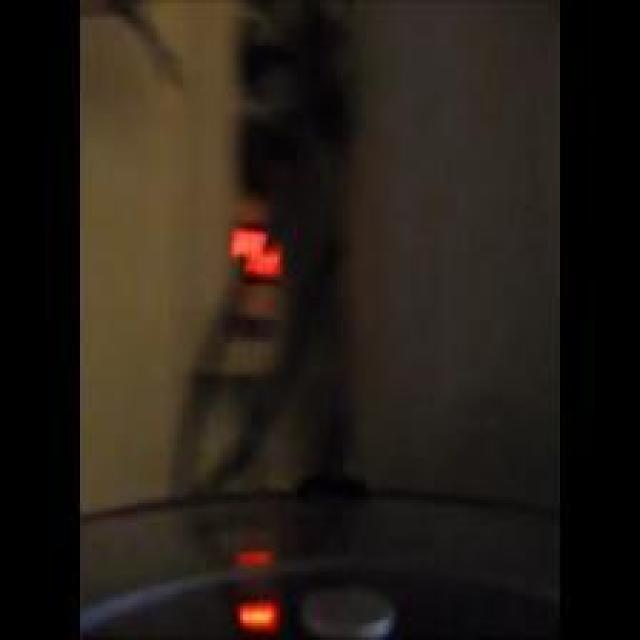other: (217, 208, 300, 306), (222, 517, 283, 634)
